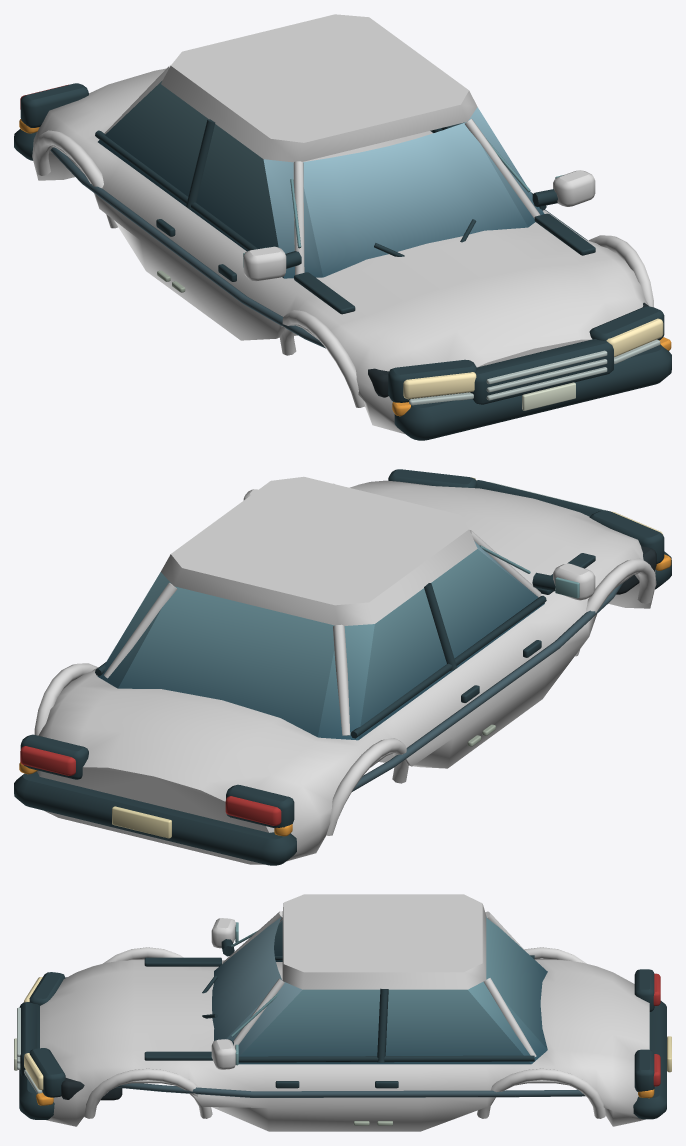
Rendered from kestrel.glb.
3 renders of one model, top to bottom at view 1: azimuth 30°, elevation 25°; view 2: azimuth 150°, elevation 25°; view 3: azimuth 270°, elevation 25°, orthographic. The views are drawn at different scales.
Visible parts, largest first — view 1: Chassis, Headlamps; view 2: Chassis, BrakeLamps; view 3: Chassis, Headlamps, BrakeLamps.
Part boxes in pixels (x1,y1,x2,y2): Chassis: (14,14,671,440); Headlamps: (403,318,663,399); Chassis: (14,469,671,865); BrakeLamps: (20,746,281,825); Chassis: (14,894,671,1131); Headlamps: (24,977,43,1090); BrakeLamps: (653,973,660,1086).
Bounding box in the file's own units: 1.91 × 0.9396 × 3.91.
